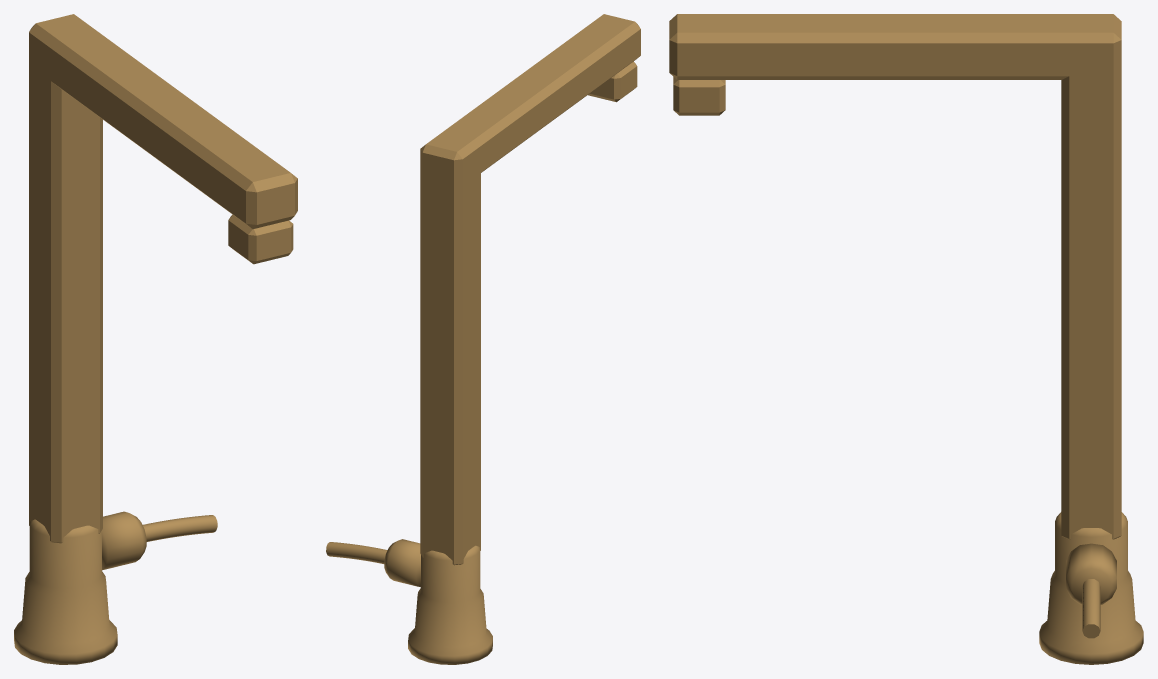
Rendered from a_faucet_lhigh_2.glb.
3 views of the same model, side by side, from view 1: azimuth 30°, elevation 25°; view 2: azimuth 150°, elevation 25°; view 3: azimuth 270°, elevation 25° (orthographic). The views are drawn at different scales.
Parts seen in each view (by area): view 1: o.001, o.002, o, o.003, o.004, o.005; view 2: o.001, o.002, o, o.004, o.003, o.005; view 3: o.001, o.002, o, o.004, o.003, o.005.
Boxes of the visible parts, x1,y1,x2,y2 form: o.001: (29,14,102,543); o.002: (34,30,297,228); o: (14,519,117,664); o.003: (228,214,293,264); o.004: (102,511,146,570); o.005: (142,515,217,541); o.001: (420,131,480,565); o.002: (444,14,640,176); o: (408,545,492,664); o.004: (384,539,420,587); o.003: (588,61,637,102); o.005: (326,542,387,563); o.001: (1061,14,1121,539); o.002: (669,14,1103,79); o: (1039,512,1143,664); o.004: (1066,543,1116,604); o.003: (673,77,725,115); o.005: (1082,579,1100,638).
Bounding box in the file's own units: 0.1117 × 0.34 × 0.236.
